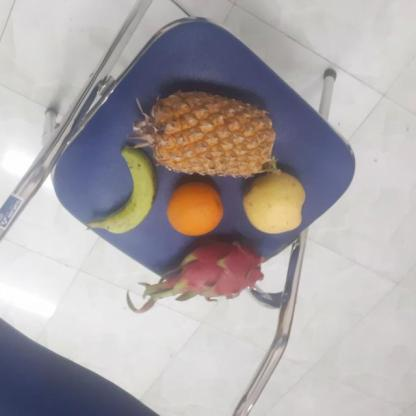banana: (100, 145, 158, 237)
orange: (163, 178, 227, 236)
pear: (240, 171, 309, 235)
pineapple: (144, 90, 270, 176)
pitaya: (167, 237, 263, 299)
